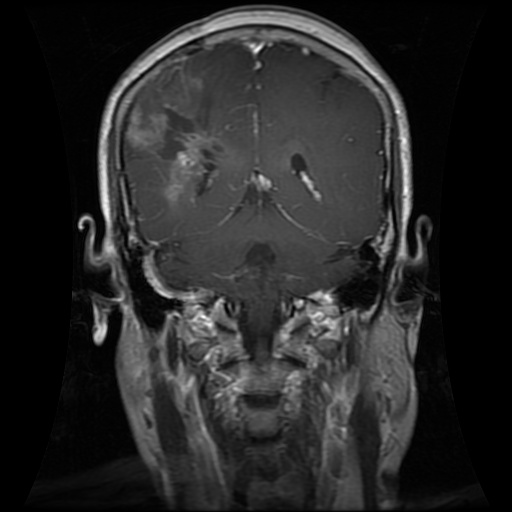glioma: (127, 61, 239, 210)
